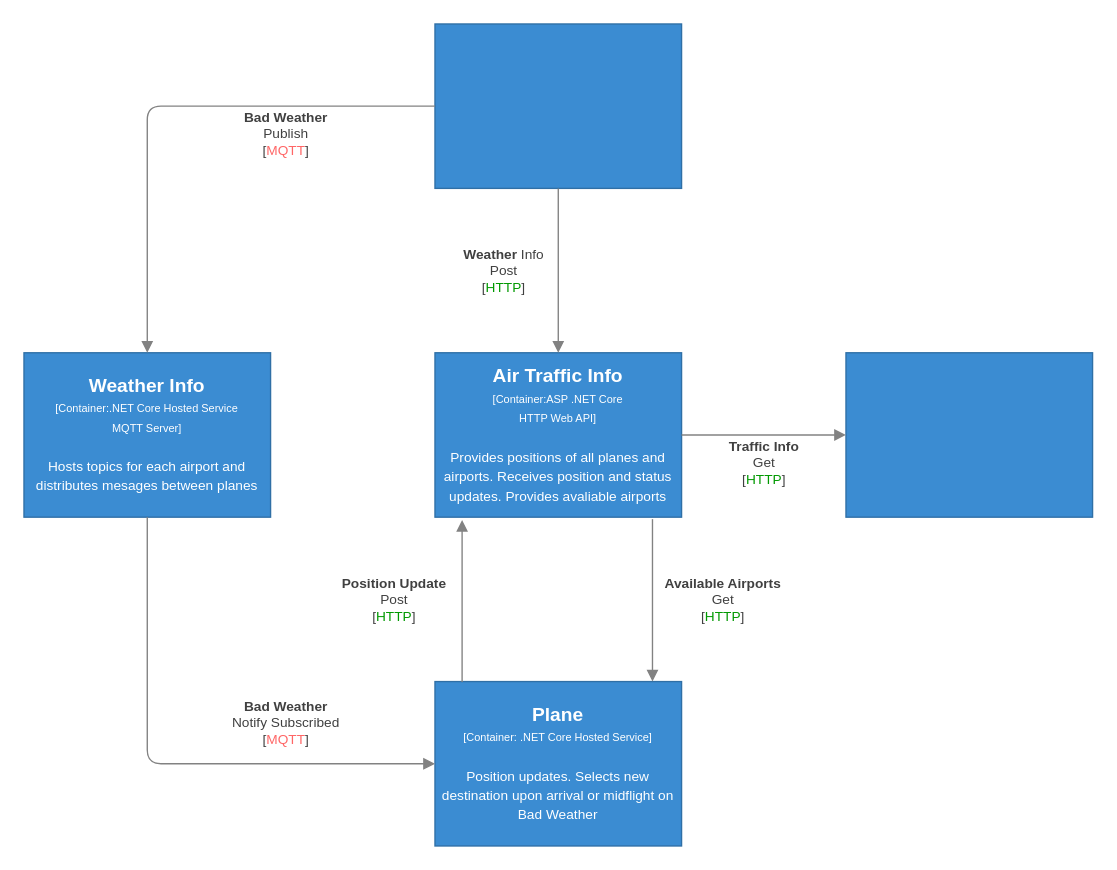
Image size: 1117x870. Some labels were removed from this diagram. Each missing label, with the centre of its shape:
Airport [Container: .NET Core Hosted Service] Weather updates: point (558, 105)
UI [Container: Angular] Displays air traffic: point (969, 434)
